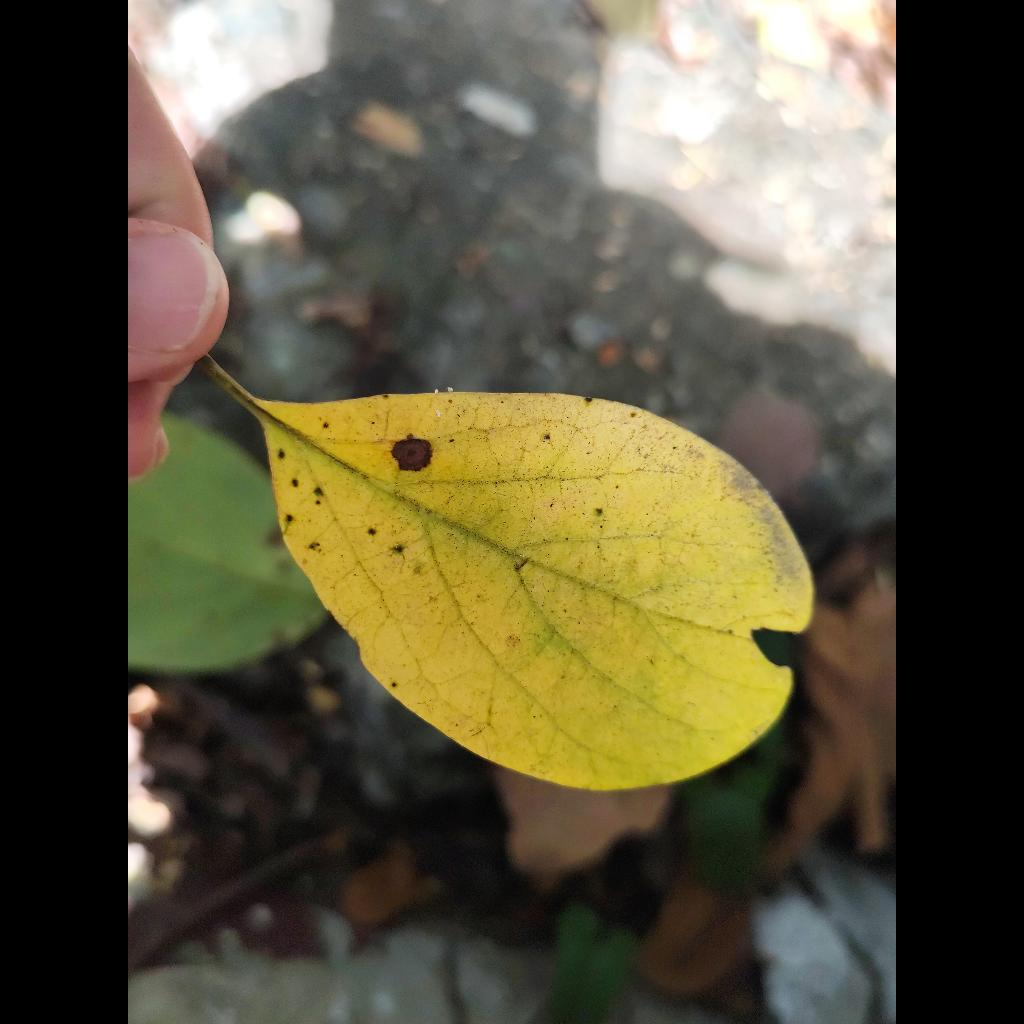nutrient_deficiency: (219, 374, 812, 790)
